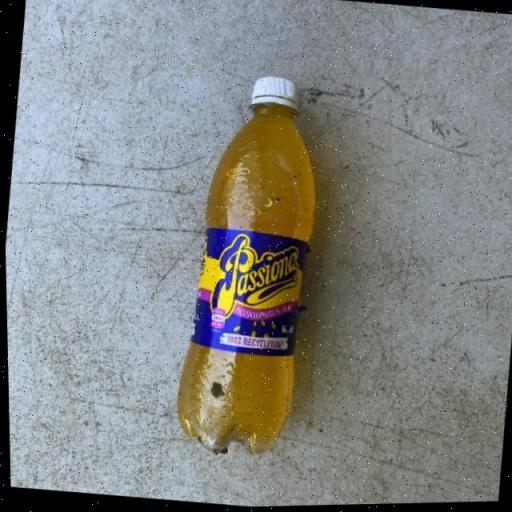plastic: (163, 68, 332, 462)
